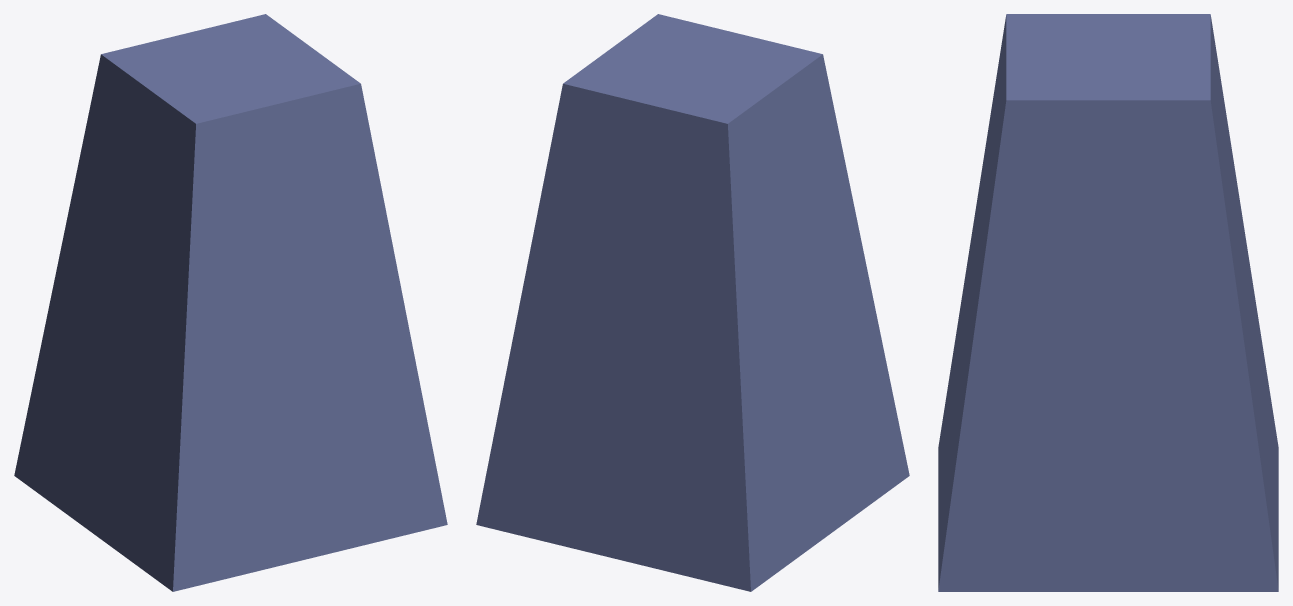
Rendered from column_small_1_1.fbx.
3 views of the same model, side by side, from view 1: azimuth 30°, elevation 25°; view 2: azimuth 150°, elevation 25°; view 3: azimuth 270°, elevation 25° (orthographic). The views are drawn at different scales.
Parts seen in each view (by area): view 1: column_small_1_1; view 2: column_small_1_1; view 3: column_small_1_1.
Boxes of the visible parts, x1,y1,x2,y2 form: column_small_1_1: (14, 14, 447, 591); column_small_1_1: (476, 14, 909, 591); column_small_1_1: (938, 14, 1278, 591).
Size of the model in its own units: 2 by 3 by 2.
